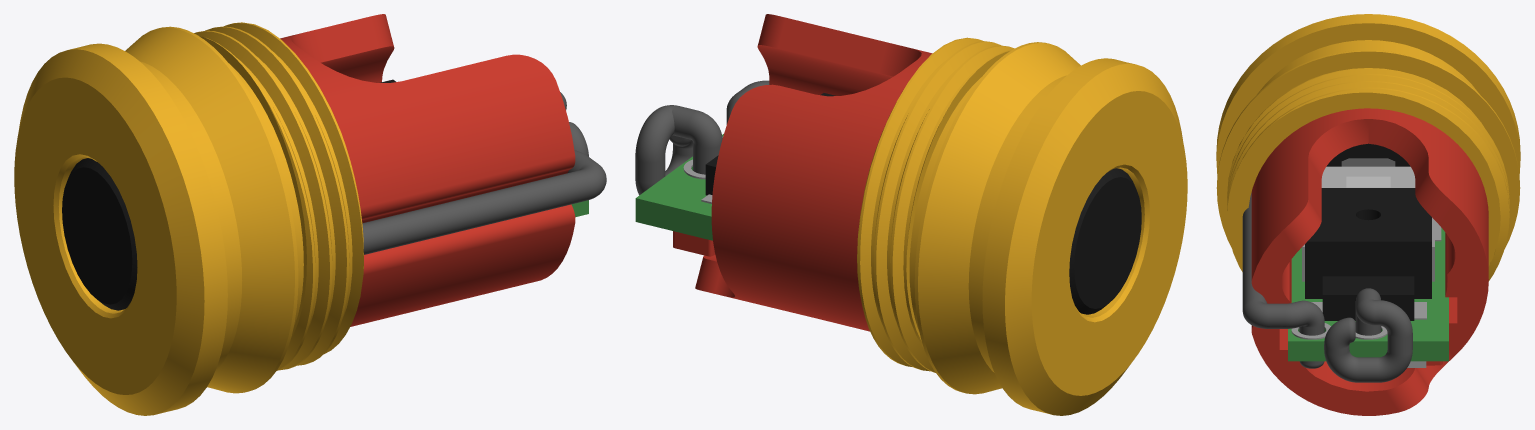
Rendered from AFTR_AR2.glb.
3 renders of one model, left to right at view 1: azimuth 30°, elevation 25°; view 2: azimuth 150°, elevation 25°; view 3: azimuth 270°, elevation 25°, orthographic. The views are drawn at different scales.
Parts seen in each view (by area): view 1: node_id7, node_id15, node_id11, node_id95; view 2: node_id7, node_id15, node_id11, node_id93, node_id19, node_id89; view 3: node_id7, node_id15, node_id25, node_id93, node_id19, node_id95, node_id27, node_id21, node_id11, node_id23.
Part boxes in pixels (x1,y1,x2,y2): node_id7: (14, 22, 363, 415); node_id15: (280, 14, 575, 326); node_id11: (62, 158, 137, 310); node_id95: (362, 150, 606, 254); node_id7: (857, 37, 1187, 415); node_id15: (695, 14, 932, 331); node_id11: (1069, 168, 1141, 314); node_id93: (635, 105, 722, 195); node_id19: (635, 134, 723, 240); node_id89: (673, 231, 715, 256); node_id7: (1216, 14, 1520, 281); node_id15: (1251, 108, 1488, 415); node_id25: (1305, 188, 1431, 298); node_id93: (1324, 288, 1412, 382); node_id19: (1288, 228, 1448, 361); node_id95: (1242, 193, 1324, 368); node_id27: (1322, 276, 1414, 320); node_id21: (1321, 166, 1415, 187); node_id11: (1326, 143, 1410, 166); node_id23: (1341, 158, 1395, 166).
Bounding box in the file's own units: 0.512 × 0.3523 × 0.3523.
41 materials, 41 textured.
